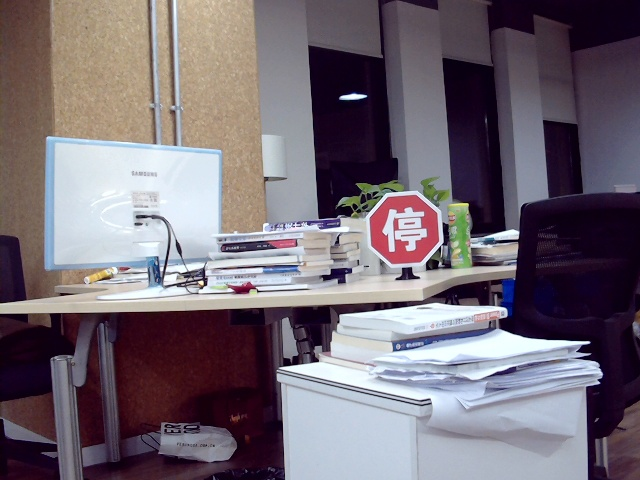stop: (381, 203, 428, 251)
